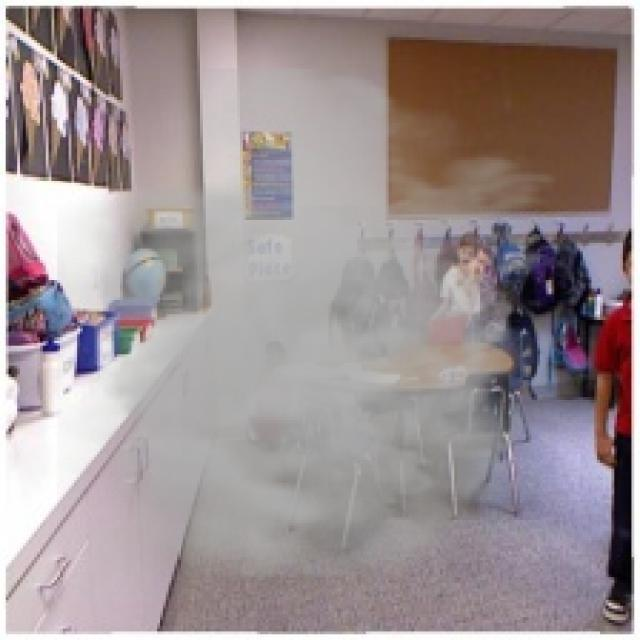Smoke: (57, 69, 609, 608)
